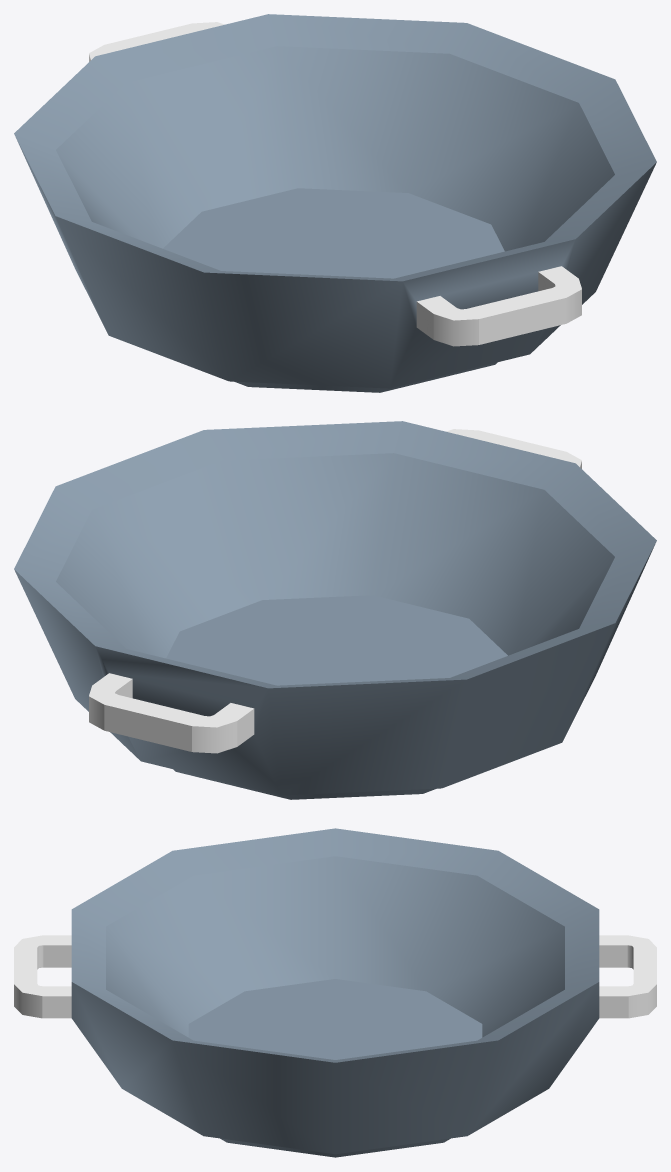
Rendered from Pan.glb.
3 views of the same model, one above another, from view 1: azimuth 30°, elevation 25°; view 2: azimuth 150°, elevation 25°; view 3: azimuth 270°, elevation 25° (orthographic). The views are drawn at different scales.
Parts seen in each view (by area): view 1: Pan; view 2: Pan; view 3: Pan.
Part boxes in pixels (<box>): Pan: <box>14,14,656,392</box>; Pan: <box>14,421,656,799</box>; Pan: <box>14,828,656,1157</box>.
Size of the model in its own units: 0.6574 by 0.1753 by 0.7621.
